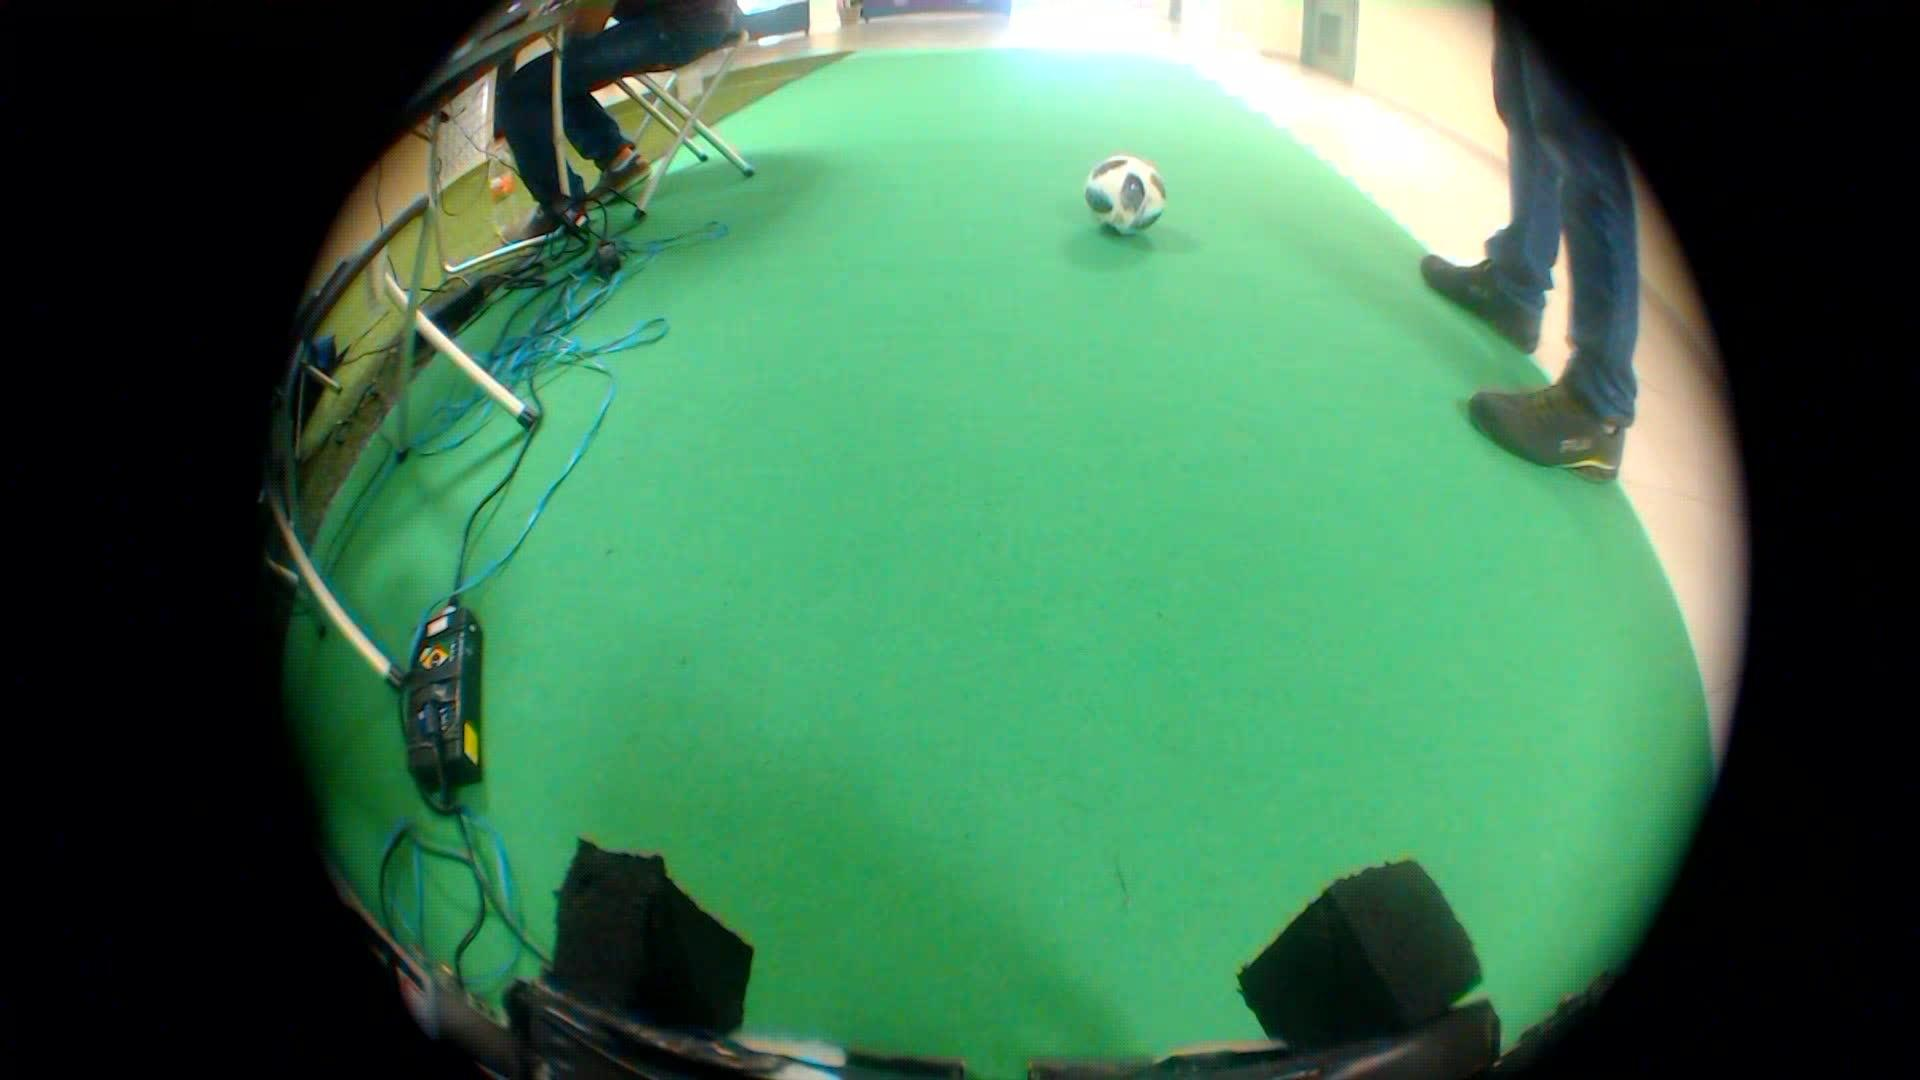ball: (1068, 145, 1176, 247)
